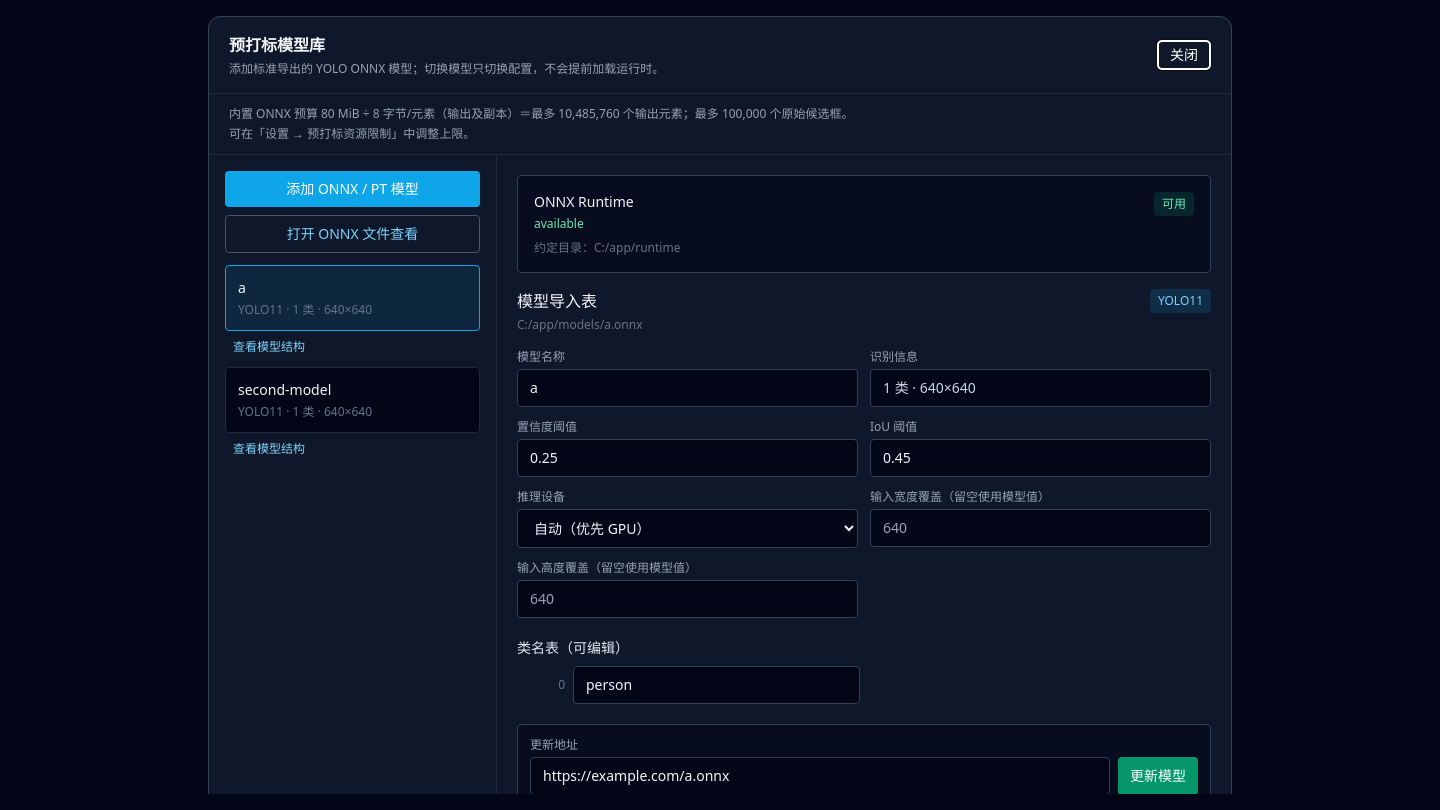
Test: does not revive an import draft that was closed after a failed save
This screenshot has width=1440, height=810.
Click the button "添加 ONNX / PT 模型": (352, 189) [225, 171, 480, 207]
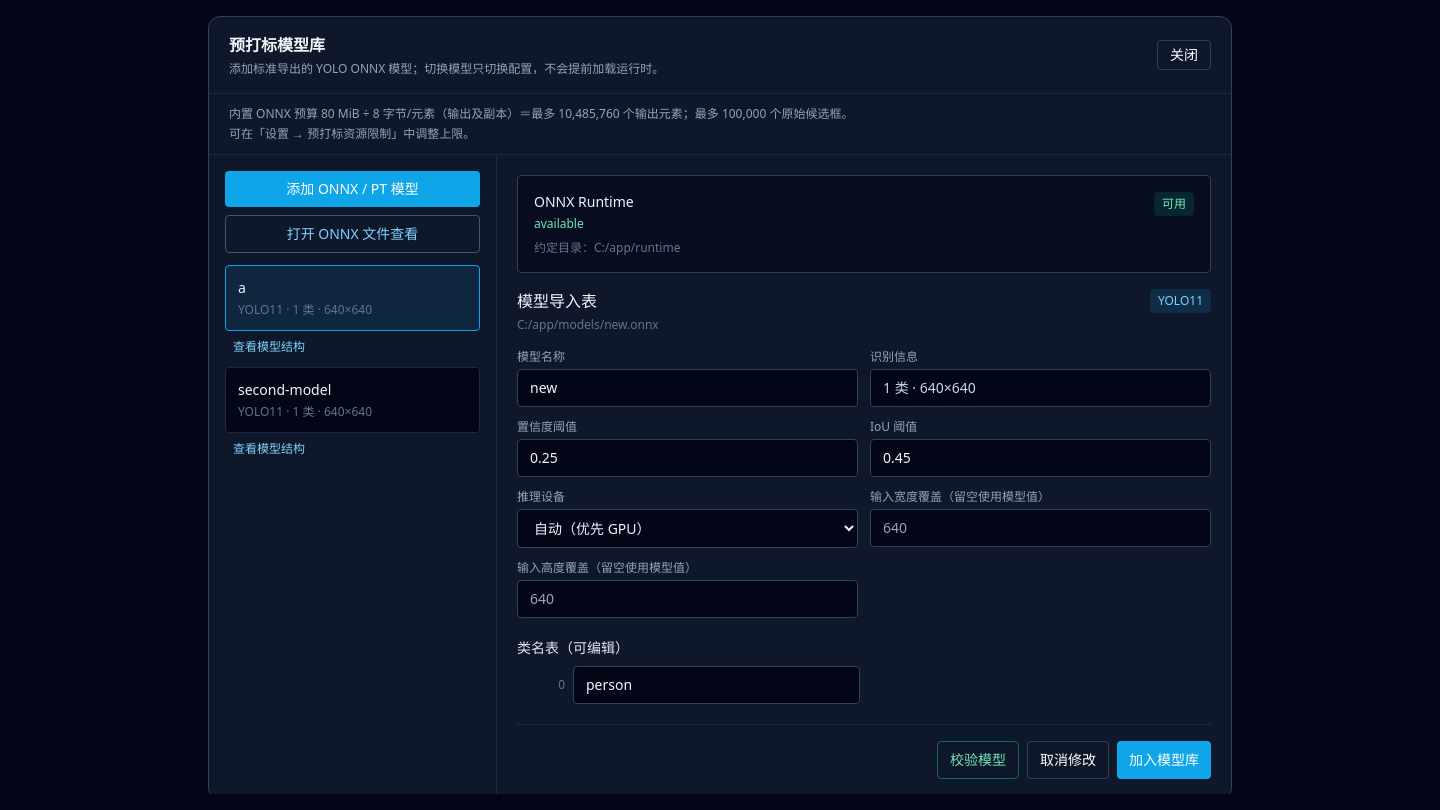
Click the button "加入模型库": (1164, 760) [1117, 741, 1211, 779]
(page scrolled)
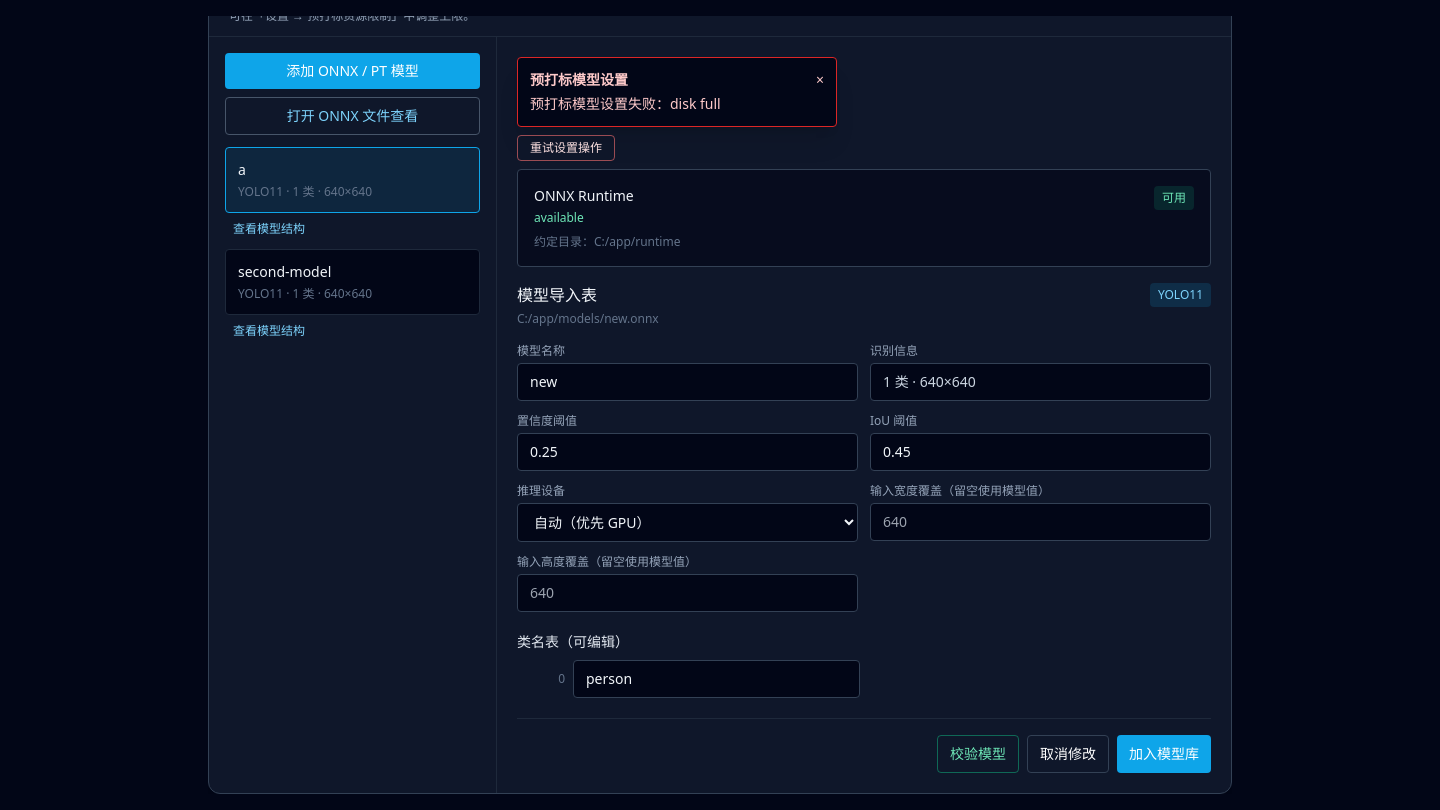
Click the button "取消修改": (1068, 754) [1027, 735, 1109, 773]
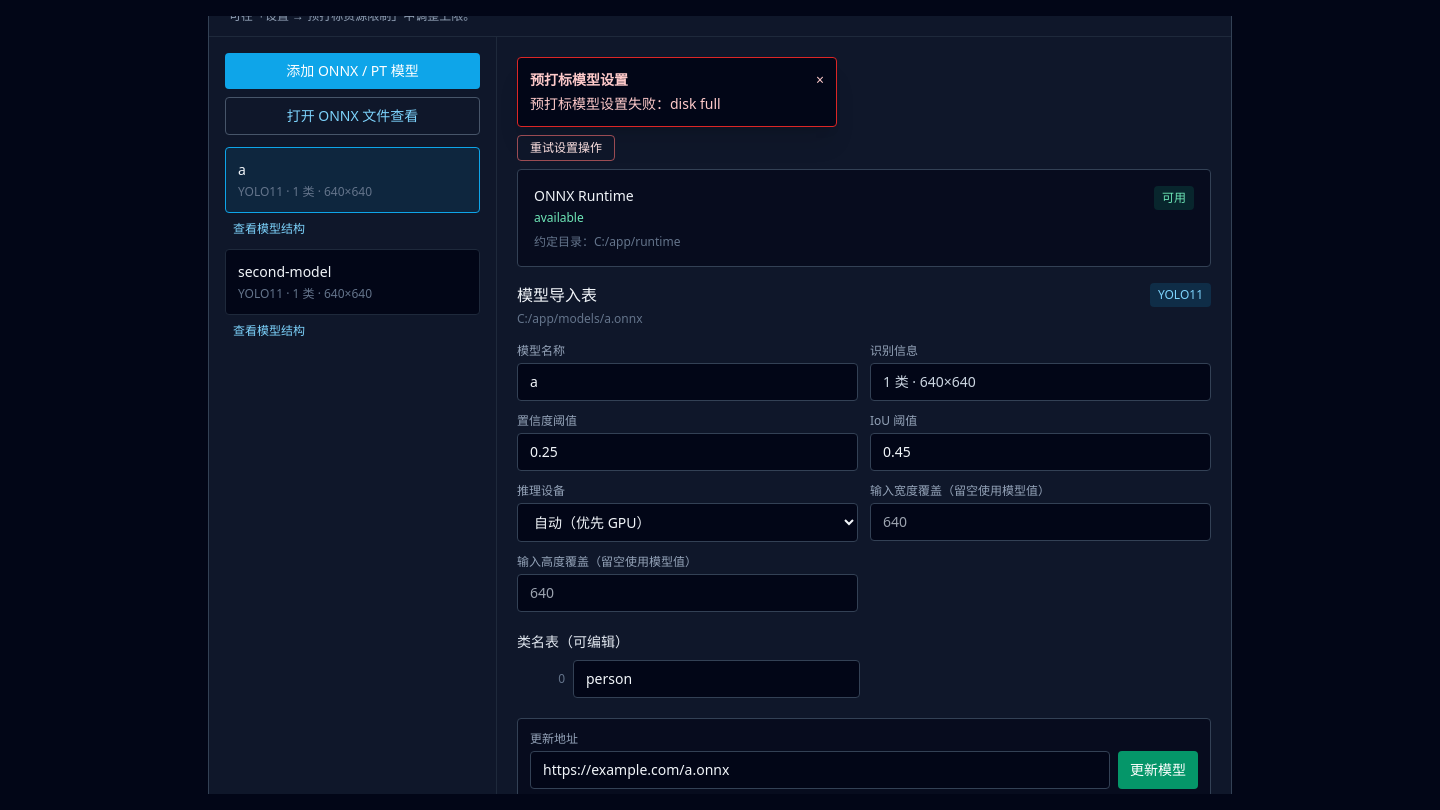
Click the button "重试设置操作": (566, 148) [517, 135, 615, 161]
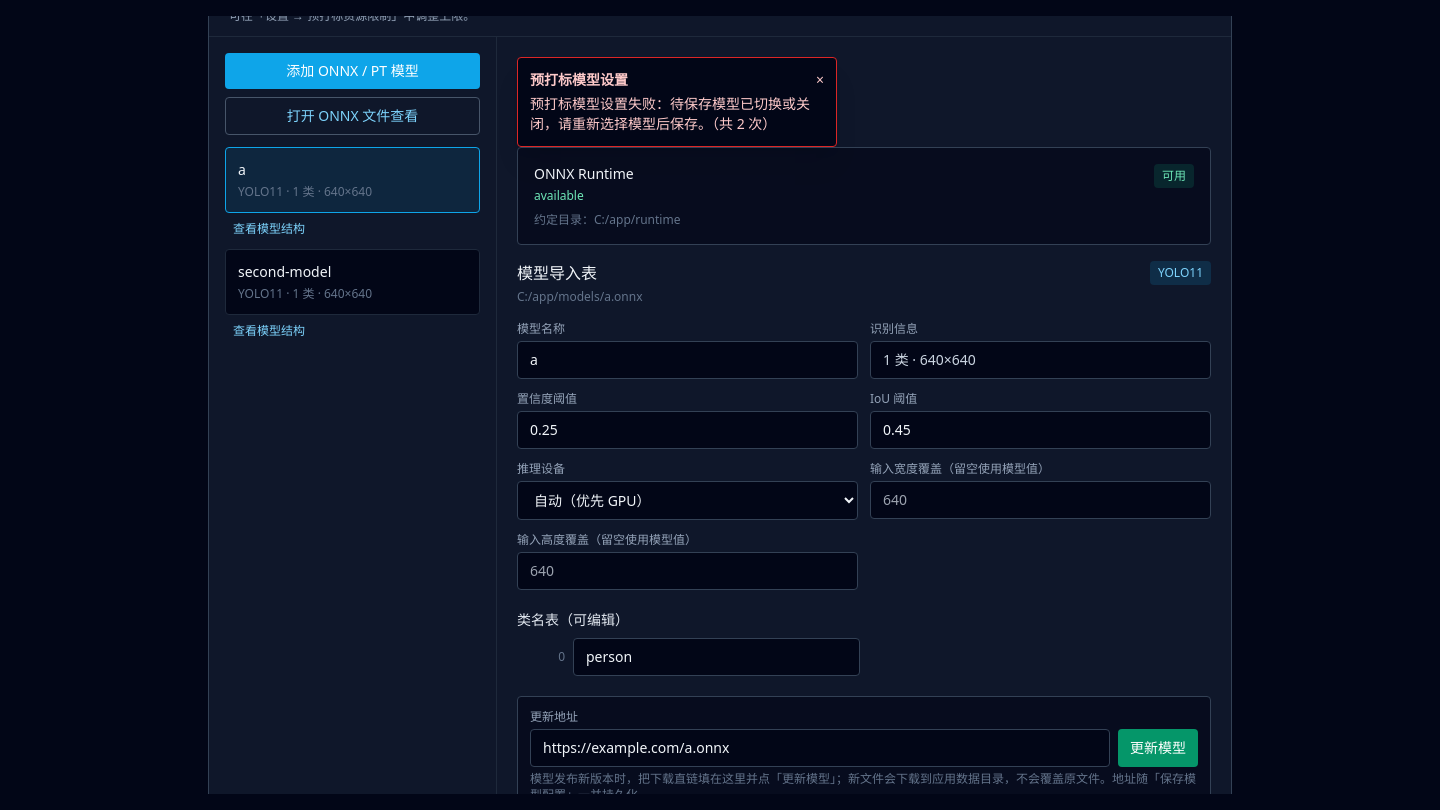
Expected: the text "待保存模型已切换或关闭，请重新选择模型后保存。" is shown, [530, 94, 810, 133]
